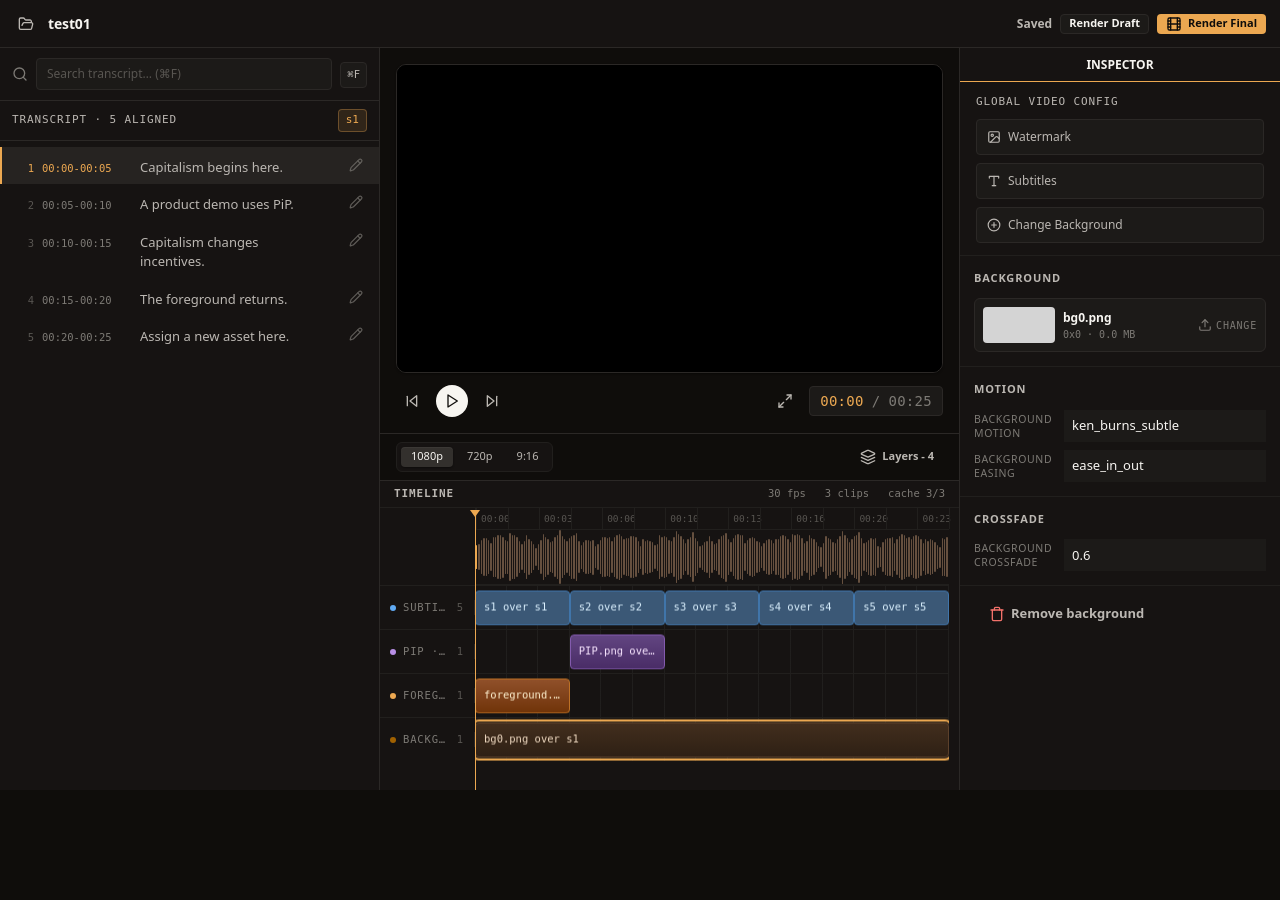
Test: edits transcript sentence text and autosaves the transcript payload
Click the button named "edit sentence 2".
click(356, 202)  # box [345,191,367,213]
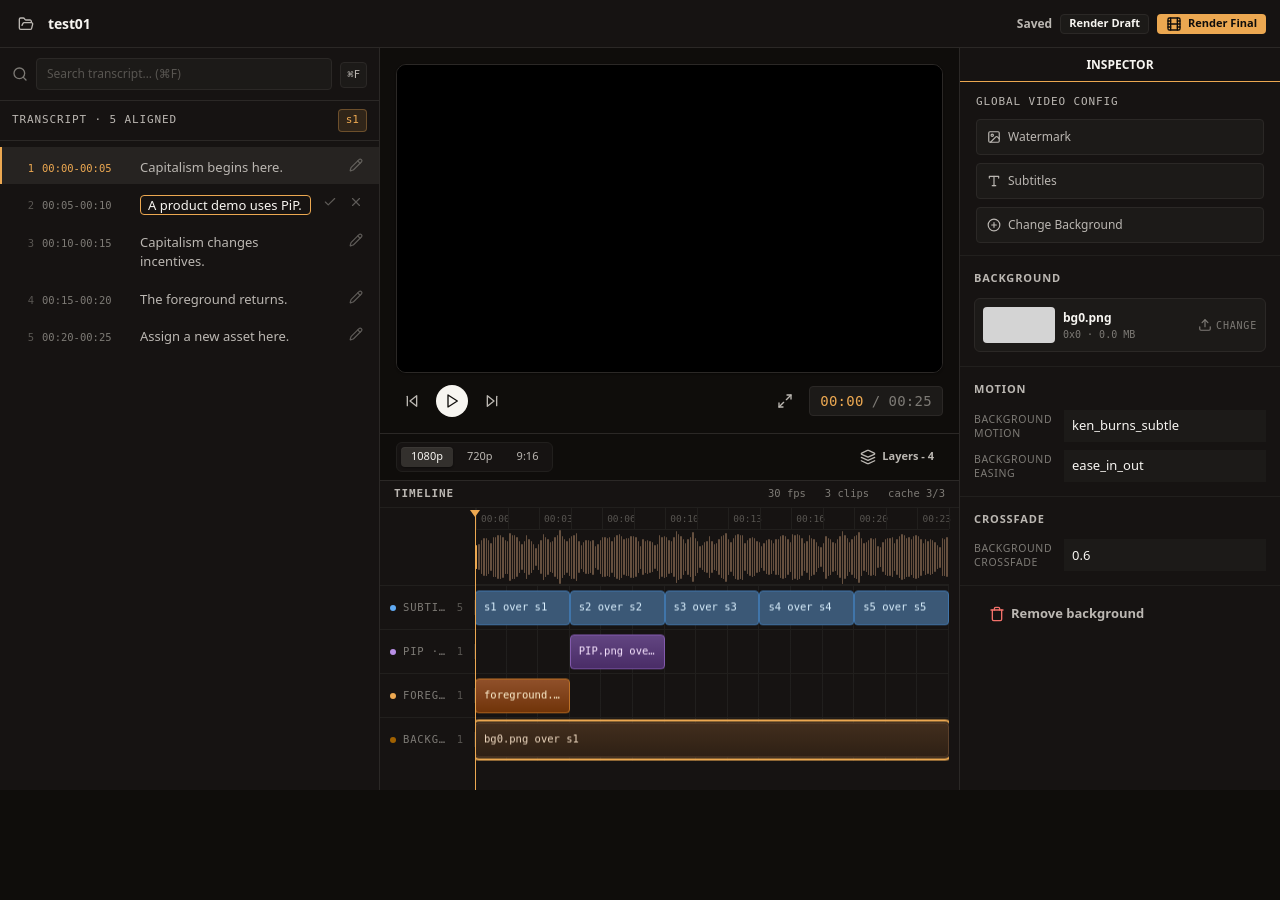
Replace the text in the text box named "edit sentence 2 text" with "Updated PiP narration." at (226, 205), box [140,195,311,214]
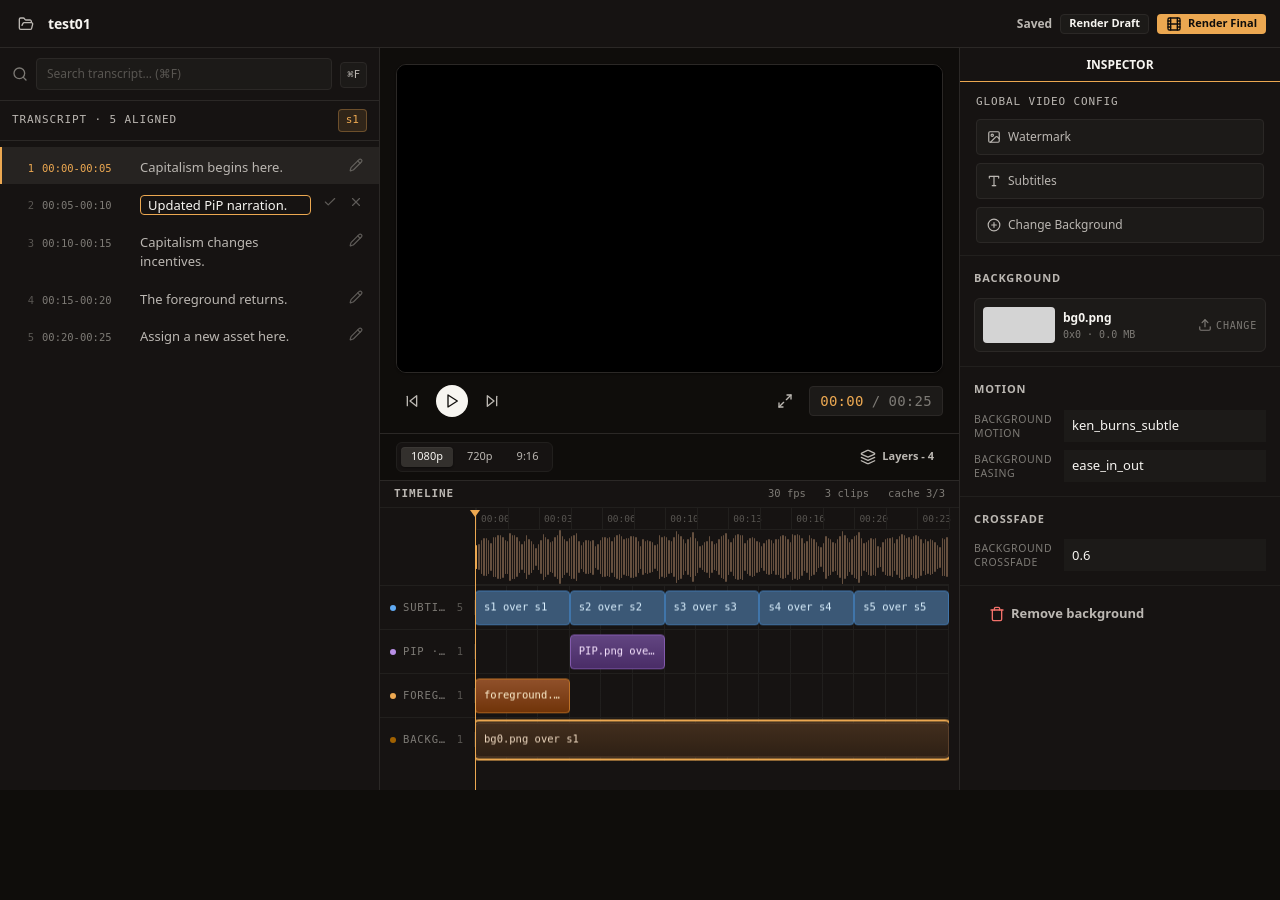
Click the button named "confirm sentence 2 edit".
click(330, 202)  # box [319,191,341,213]
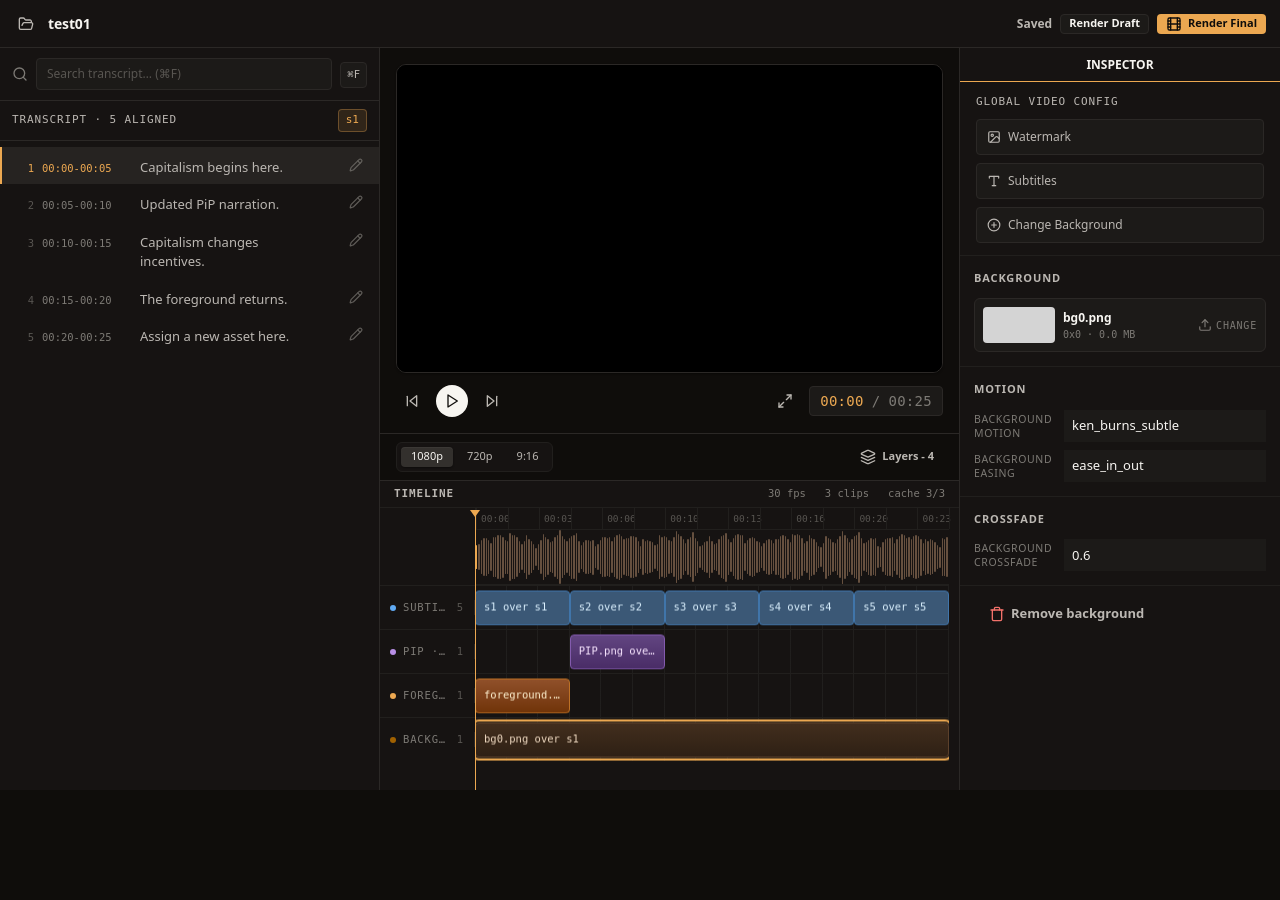
Check: the text "Updated PiP narration." is shown, box [140,195,279,213]
